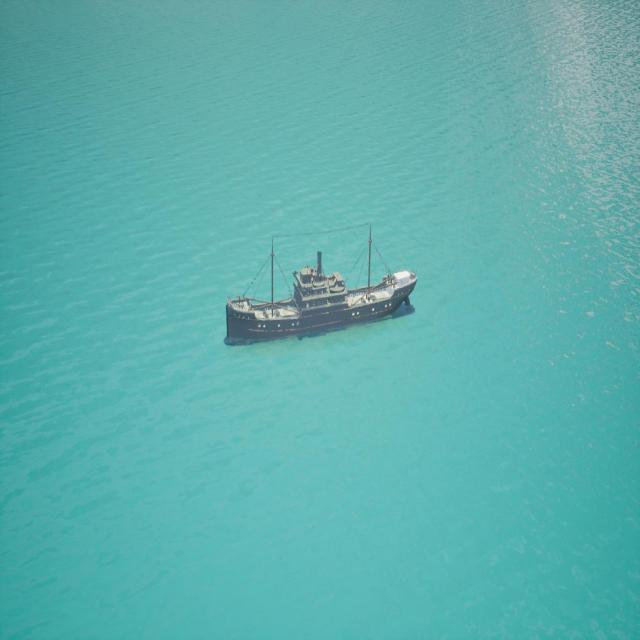fishing ship: (226, 228, 419, 344)
